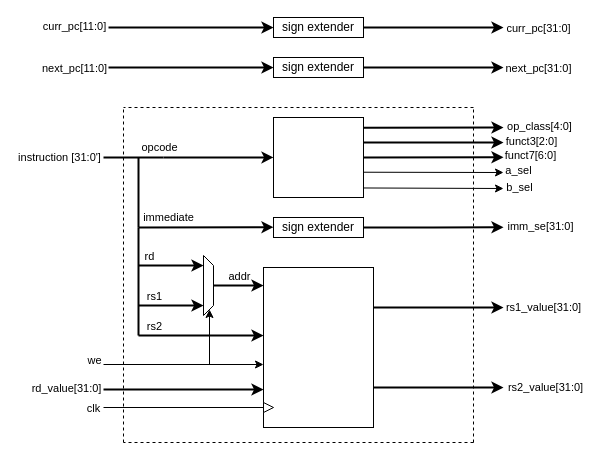
The diagram is 600 pixels wide and 461 high, and some of its shapes have lost their labels. Here are the shapes that lost their labels. From the top down, the centre of each, then its label:
At (x=318, y=157): "Decoder".
At (x=318, y=347): "Register File".
